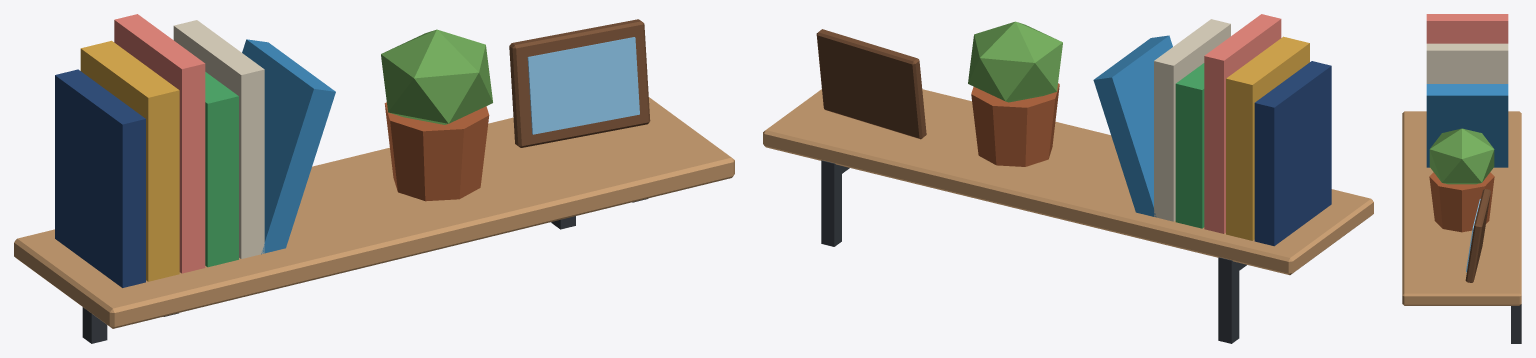
Rendered from wall_shelf.glb.
3 views of the same model, side by side, from view 1: azimuth 30°, elevation 25°; view 2: azimuth 150°, elevation 25°; view 3: azimuth 270°, elevation 25° (orthographic). The views are drawn at different scales.
Parts seen in each view (by area): view 1: WallShelf; view 2: WallShelf; view 3: WallShelf.
Boxes of the visible parts, <box> form: WallShelf: <box>14,14,734,343</box>; WallShelf: <box>763,14,1373,343</box>; WallShelf: <box>1402,14,1521,343</box>.
Size of the model in its own units: 0.8 by 0.3925 by 0.22.
